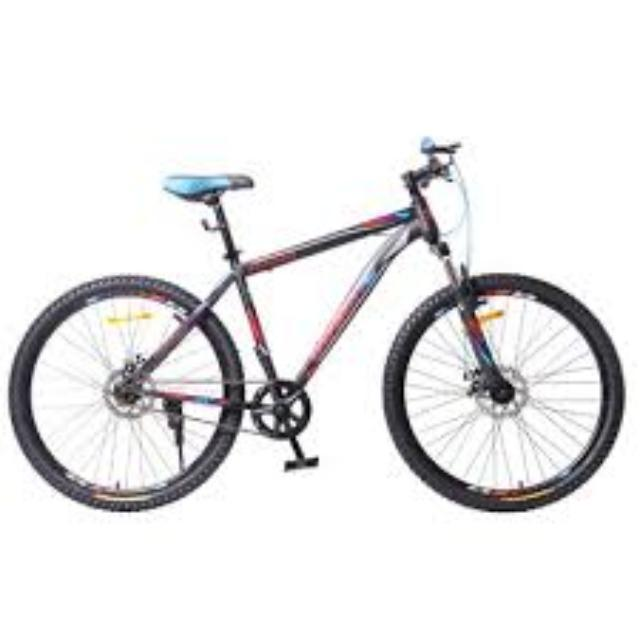obstacle: (5, 134, 640, 536)
